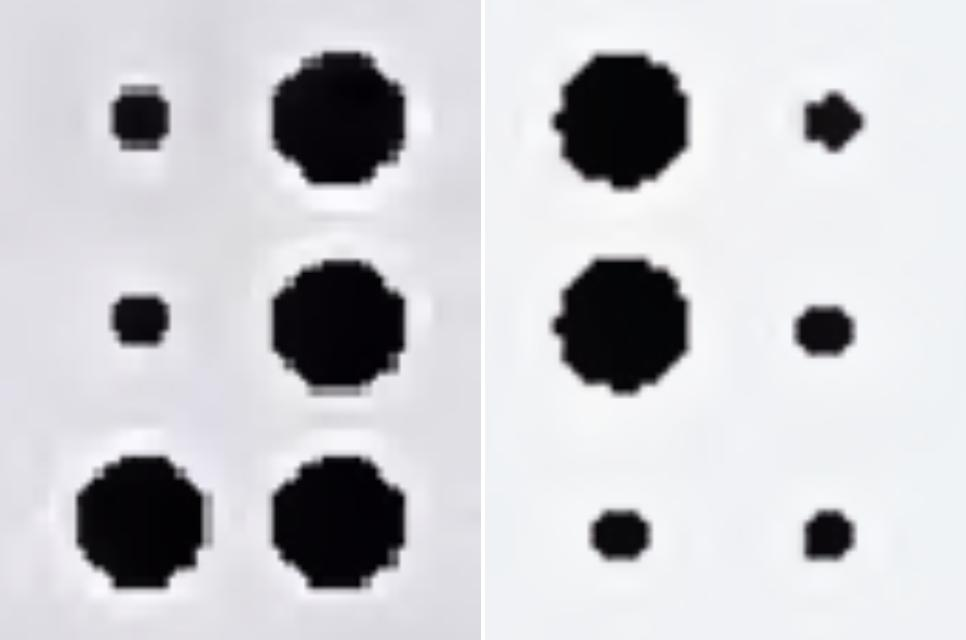digit_2: (548, 53, 856, 574)
number_sign: (75, 55, 405, 591)
